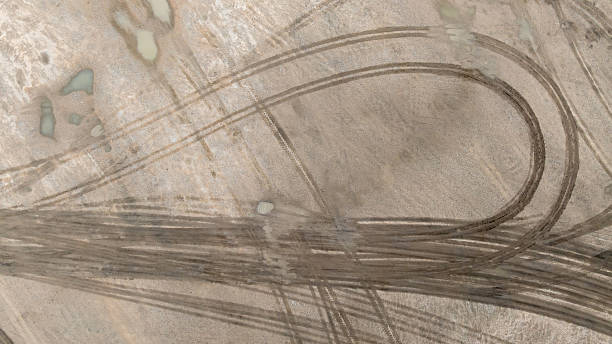vehicle_track: (368, 34, 611, 333), (260, 62, 544, 234), (469, 33, 578, 268), (3, 216, 275, 284), (551, 1, 611, 118), (568, 0, 611, 40), (372, 295, 385, 318), (0, 329, 13, 343)
